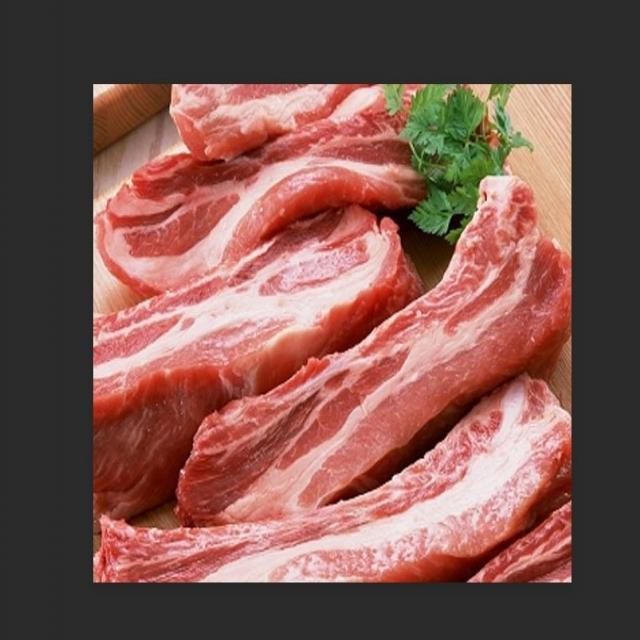pork: (173, 177, 568, 528), (95, 374, 572, 583), (93, 214, 406, 530), (100, 95, 448, 295), (169, 85, 370, 162)
